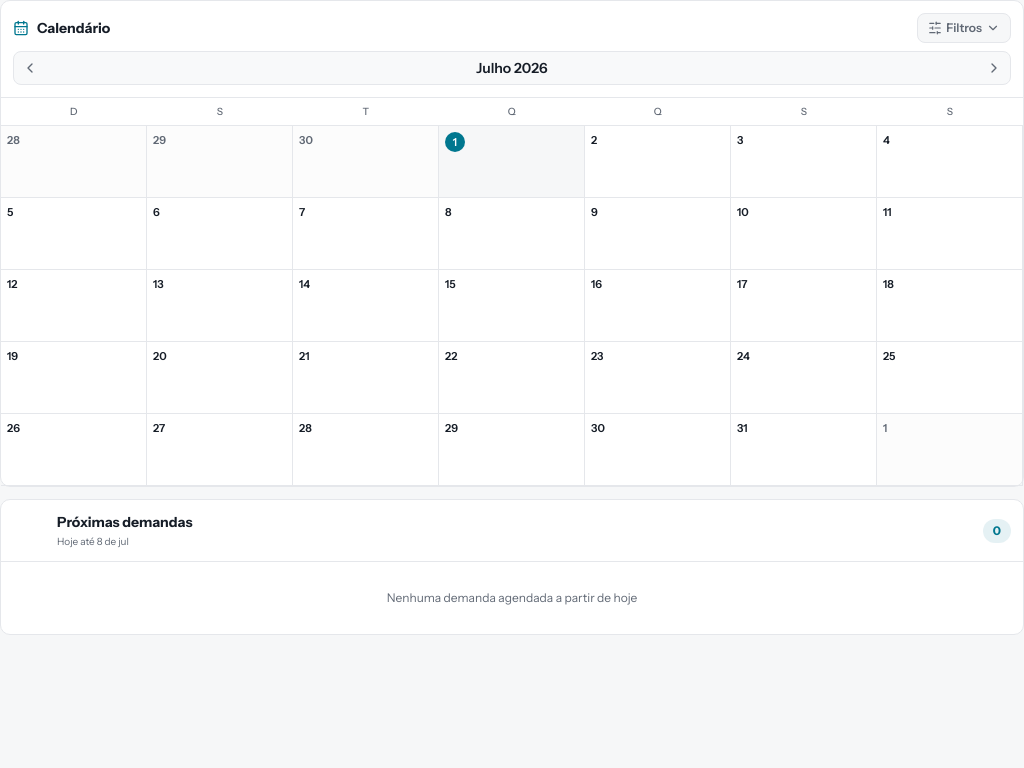
Test case: o + de um dia abre uma demanda › no celular, o dia vazio também deixa criar
Step 1. Click the button "Filtros" → coordinates (964, 28), box [917,13,1011,43]
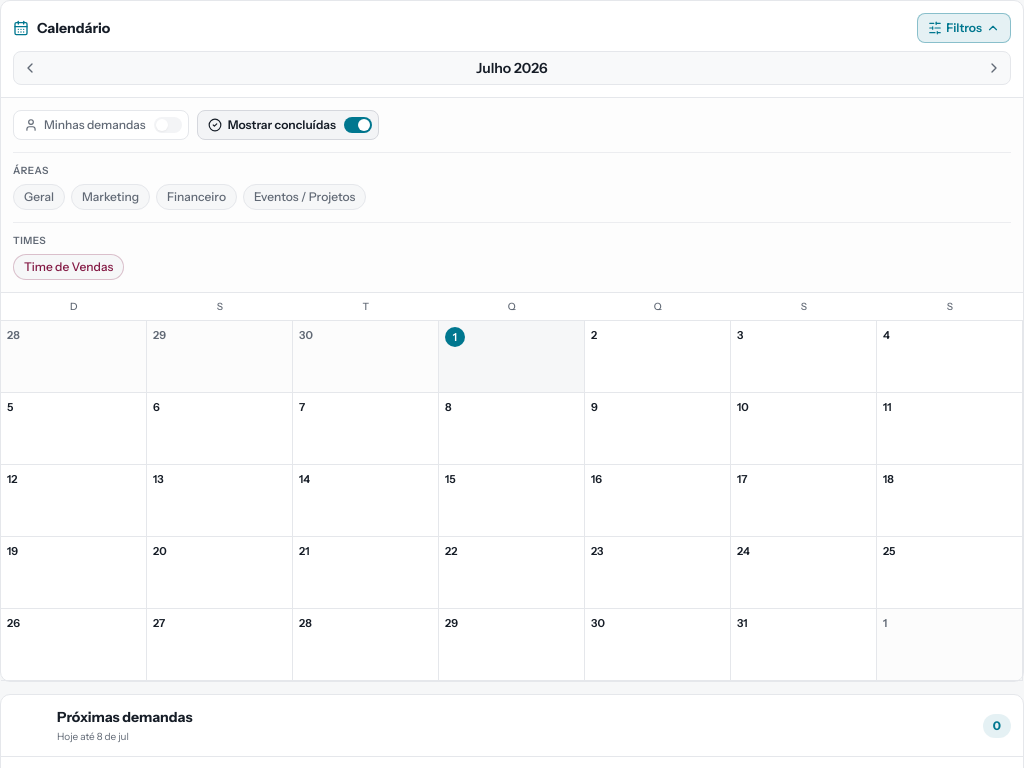
Step 2. Click the button "Time de Vendas" → coordinates (69, 267), box [13,254,124,280]
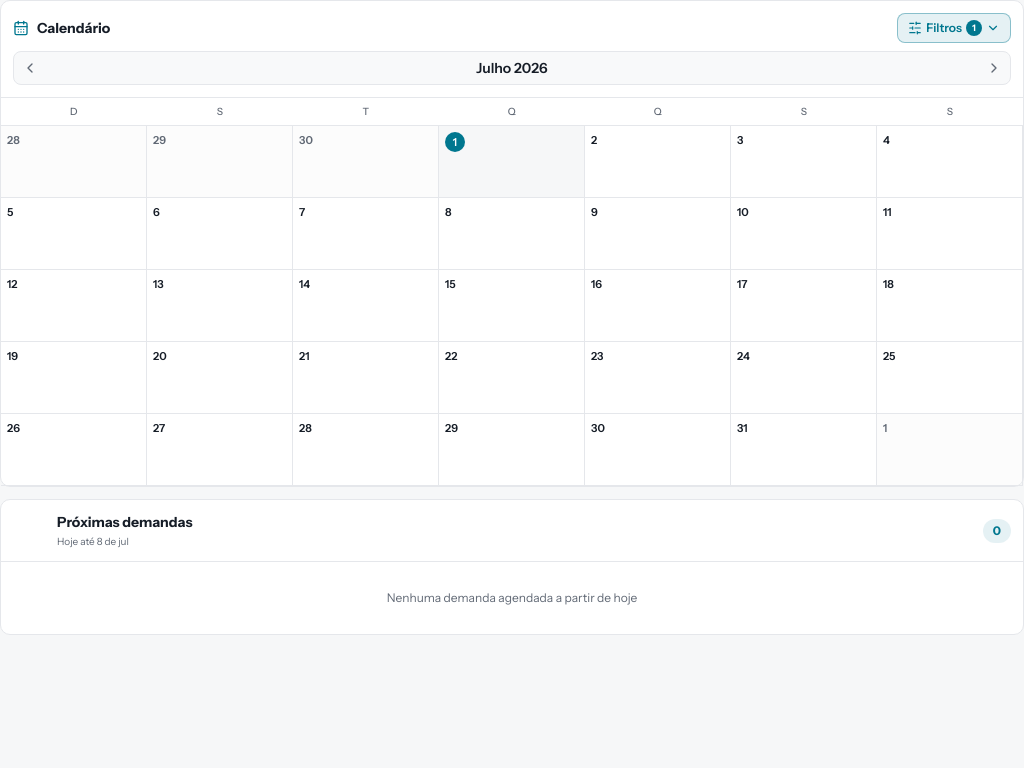
# 10 de julho não tem nada agendado — ainda assim o dia abre
Step 3. Click the button named "10 de julho" → coordinates (804, 234), box [731,198,877,270]
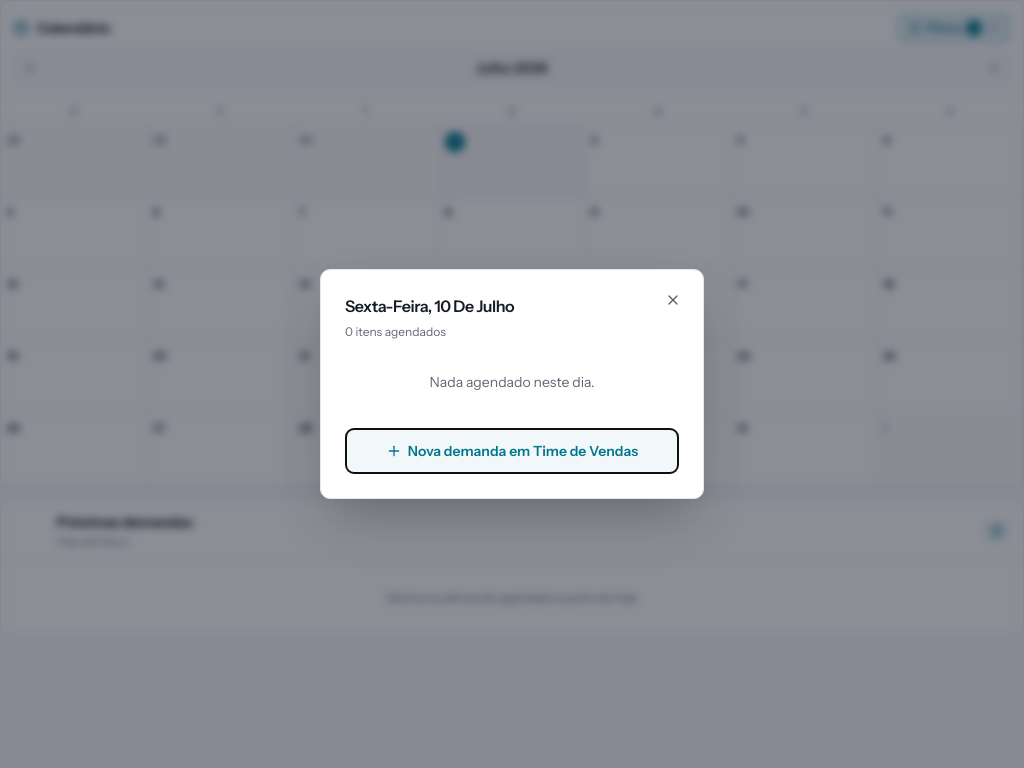
Expected: the text "Nada agendado neste dia." is shown, [429,373,595,391]
Expected: the button "Nova demanda em Time de Vendas" is shown, [345,428,679,474]
